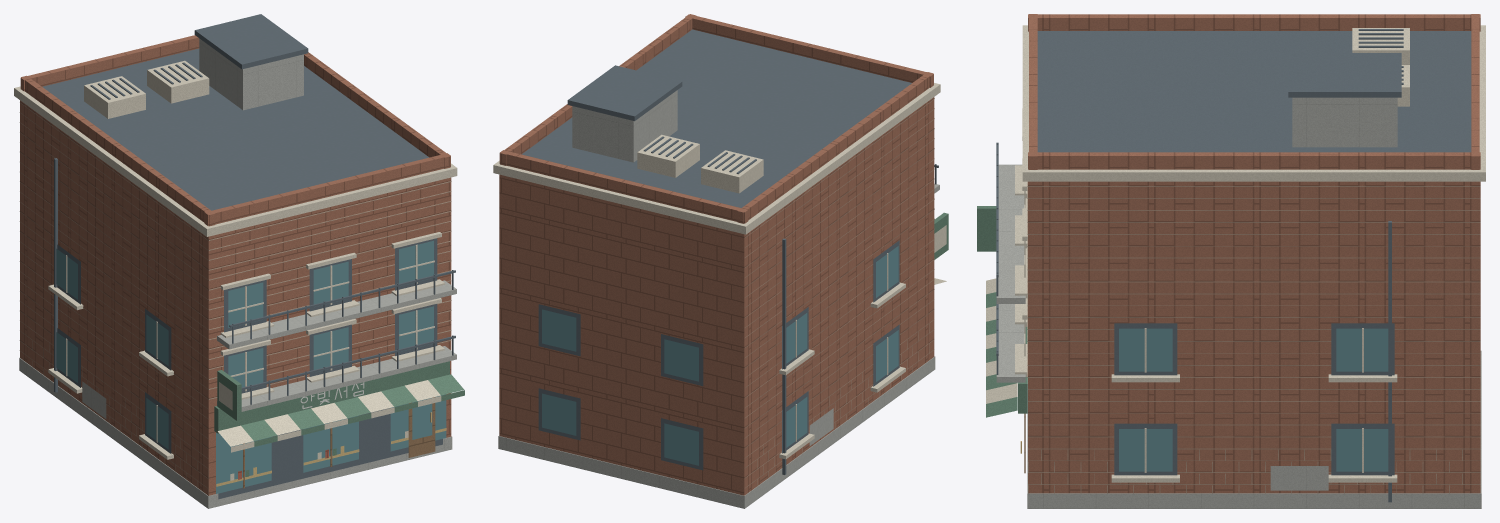
Rendered from q01-book.glb.
3 views of the same model, side by side, from view 1: azimuth 30°, elevation 25°; view 2: azimuth 150°, elevation 25°; view 3: azimuth 270°, elevation 25° (orthographic). The views are drawn at different scales.
Size of the model in its own units: 6.74 by 8.31 by 9.67.
11 materials, 10 textured.
